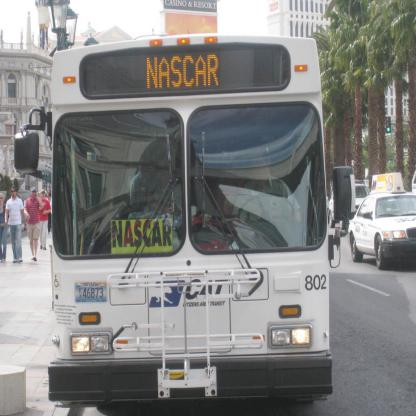Bus: (12, 30, 356, 408)
